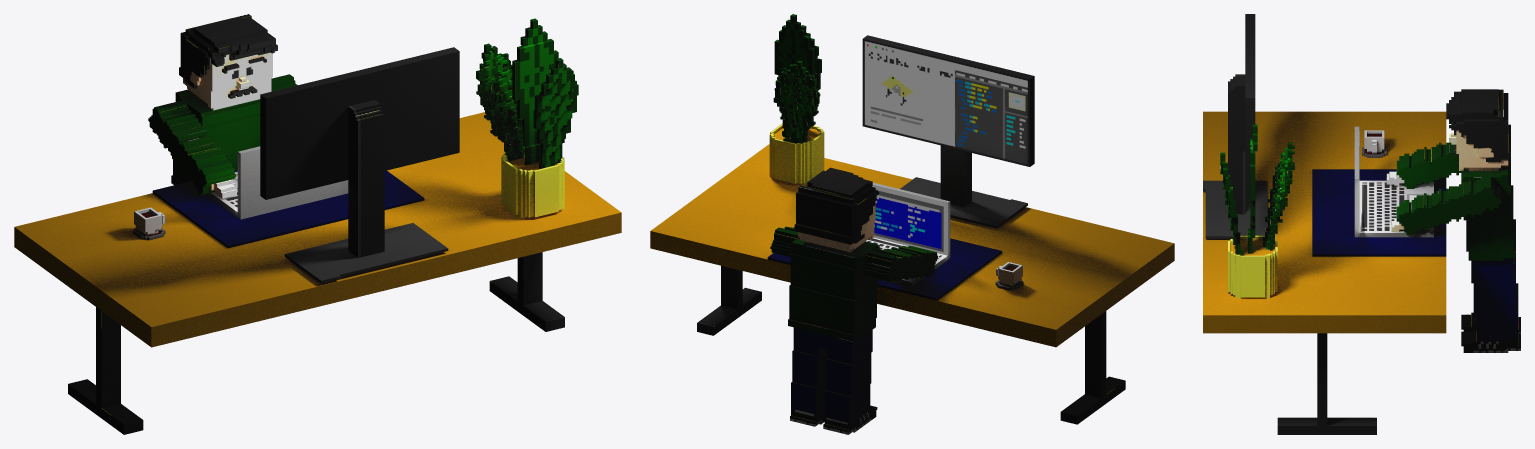
Rendered from office.glb.
3 views of the same model, side by side, from view 1: azimuth 30°, elevation 25°; view 2: azimuth 150°, elevation 25°; view 3: azimuth 270°, elevation 25° (orthographic). The views are drawn at different scales.
Visible parts, largest first — view 1: ObjObject; view 2: ObjObject; view 3: ObjObject.
Boxes of the visible parts, bbox=[...] form: ObjObject: bbox=[14, 14, 621, 434]; ObjObject: bbox=[650, 14, 1174, 434]; ObjObject: bbox=[1203, 14, 1520, 434].
Size of what is drawn, in the model's own units: 5.33 by 3.54 by 3.52.
Materials: 1 (1 with a texture image).
